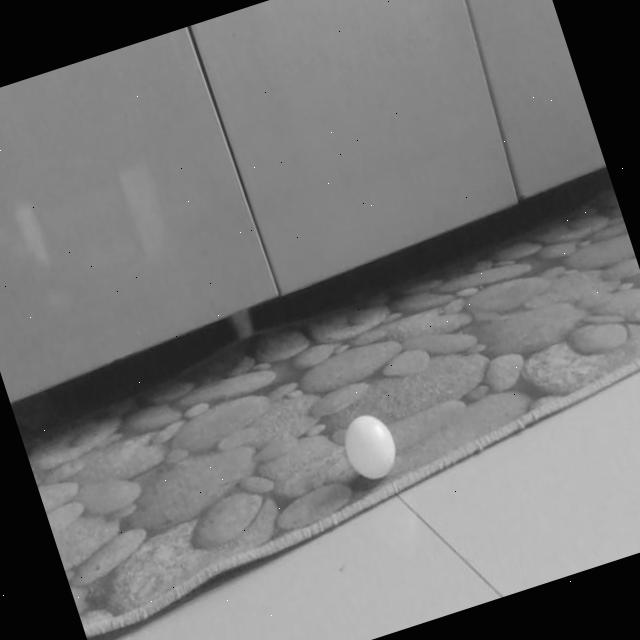ping-pong-ball: (338, 410, 402, 486)
